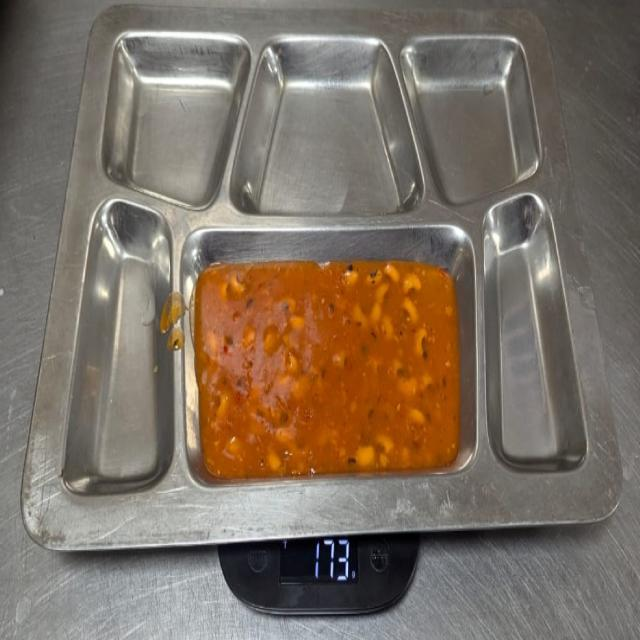Salad: (188, 247, 470, 482)
